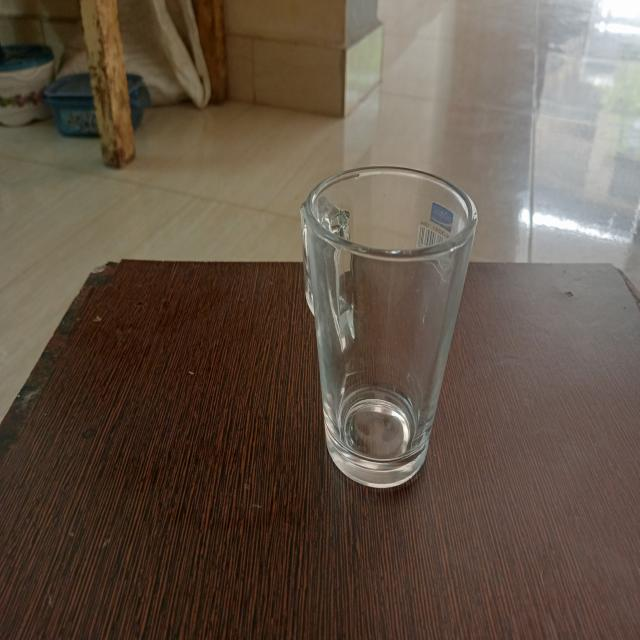glass-VX4N: (295, 155, 479, 498)
